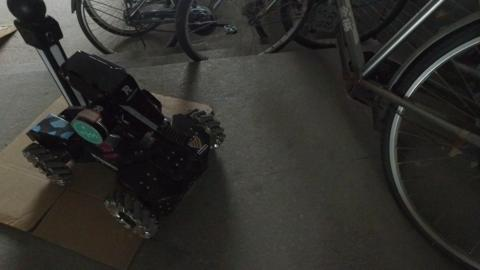chariot: (6, 1, 231, 239)
